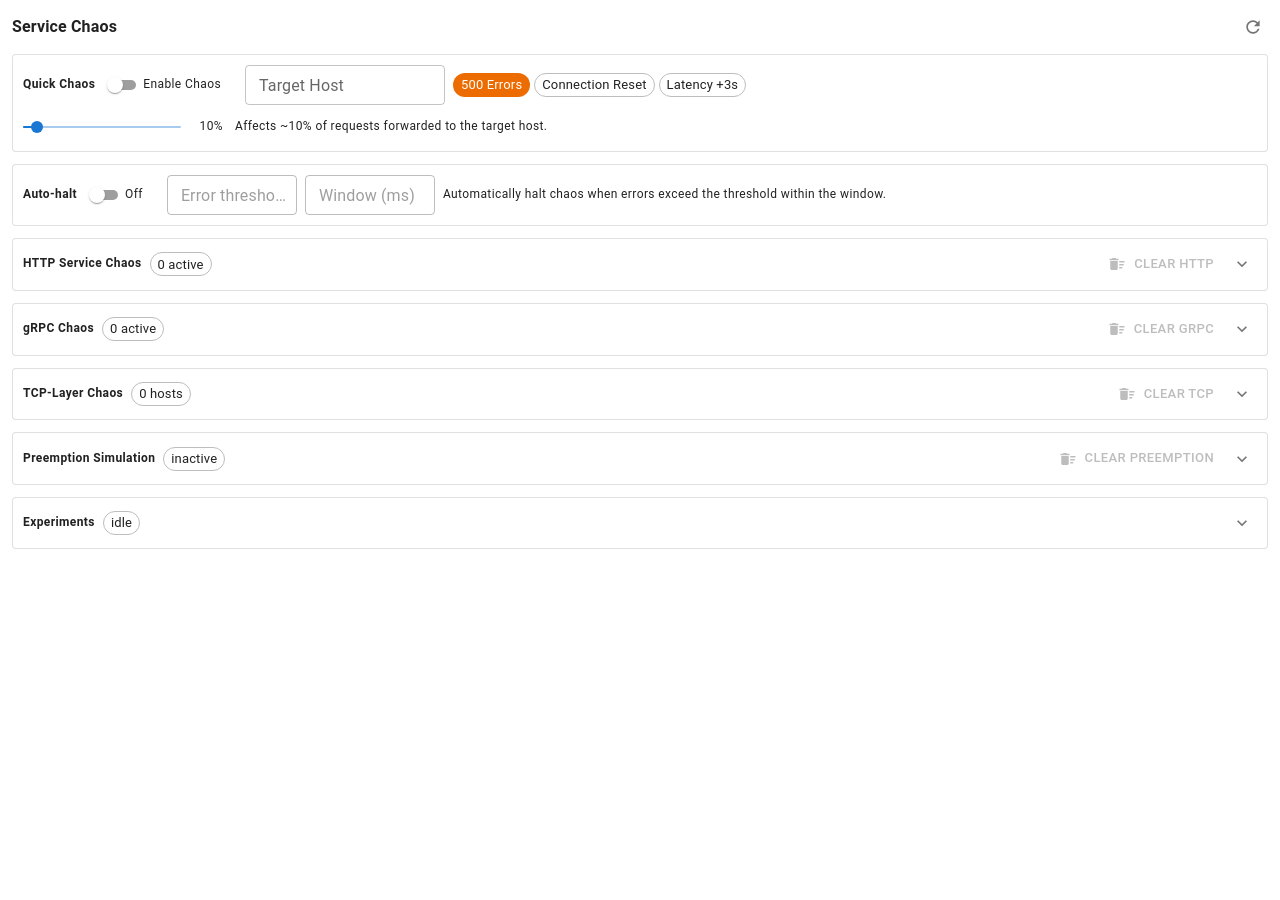
Test case: ServiceChaosPanel › renders Health Status and Fault Injection sub-sections inside gRPC Chaos panel
# Expand the gRPC Chaos panel
Click the text "gRPC Chaos" at (59, 329), box [23,319,94,339]
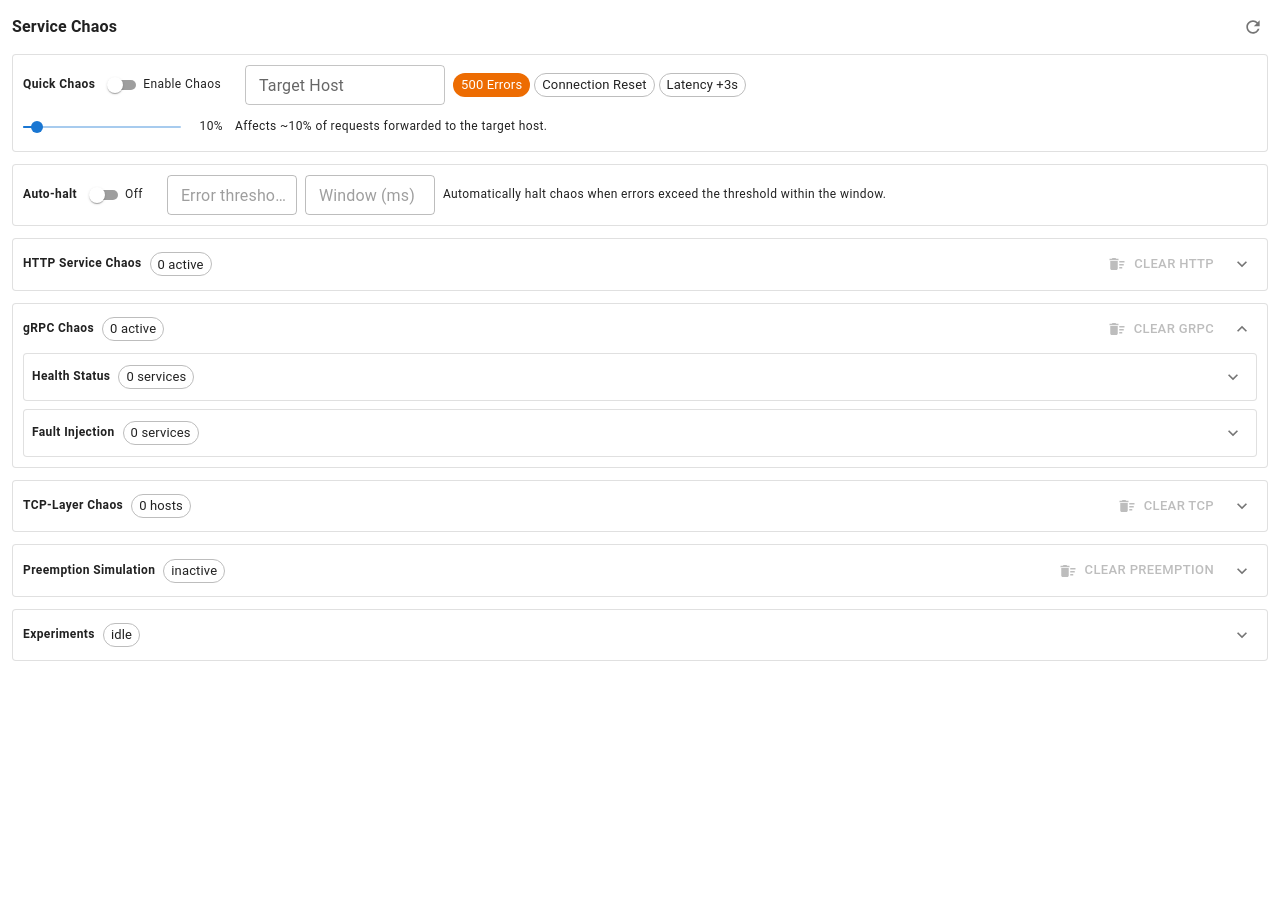
expect the text "Health Status" is shown: met, box [32,366,110,386]
expect the text "Fault Injection" is shown: met, box [32,422,115,442]
